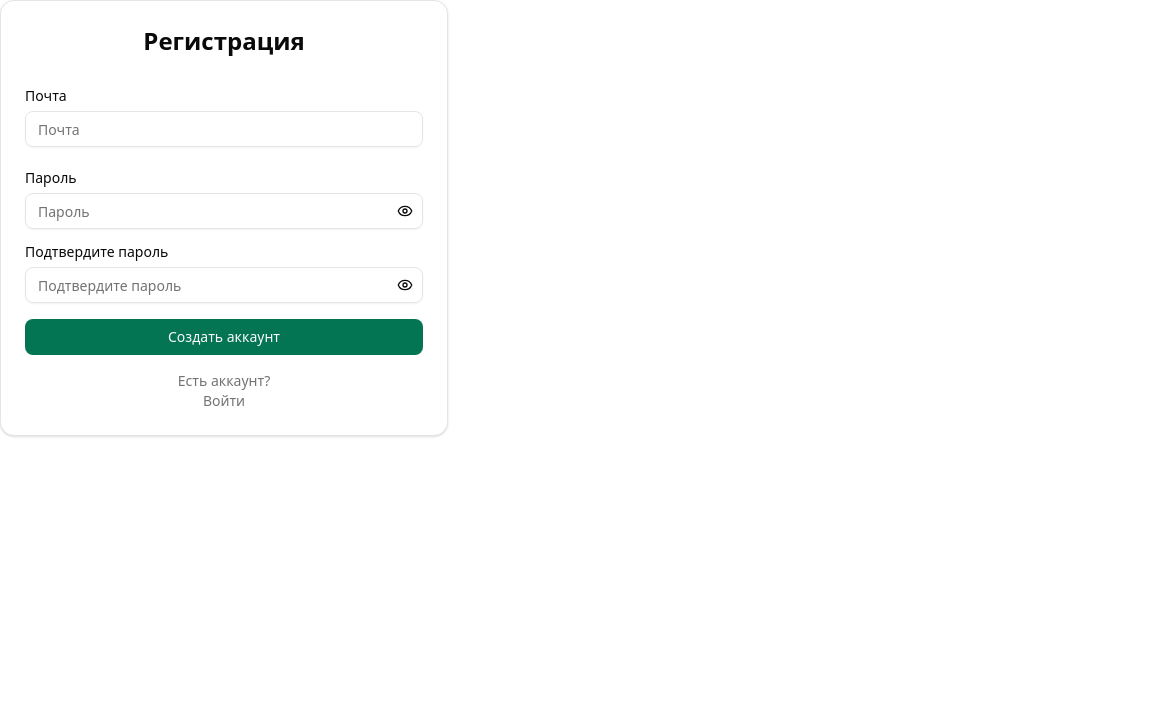
Scenario: RegisterForm › should open code dialog when code is sent
Type "test@abai-it.kz" into the field at (224, 129), box [25,111,423,147]
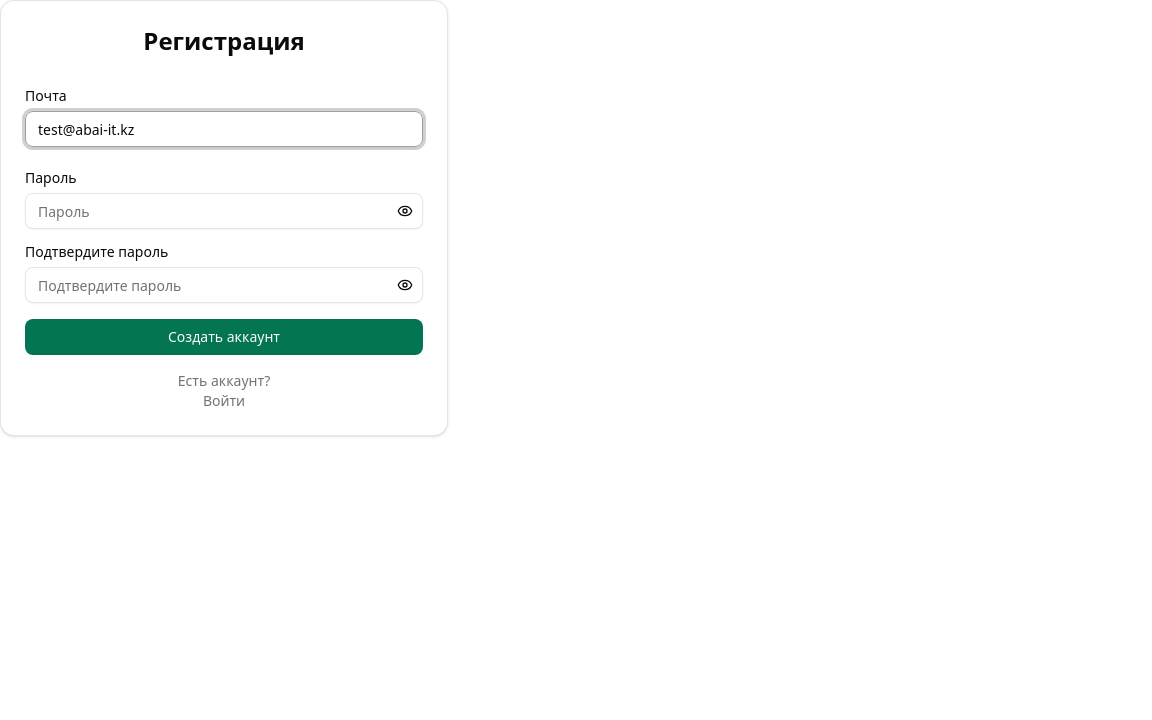
Type "Test12345678" into the password field with placeholder "Пароль" at (224, 211), box [25,193,423,229]
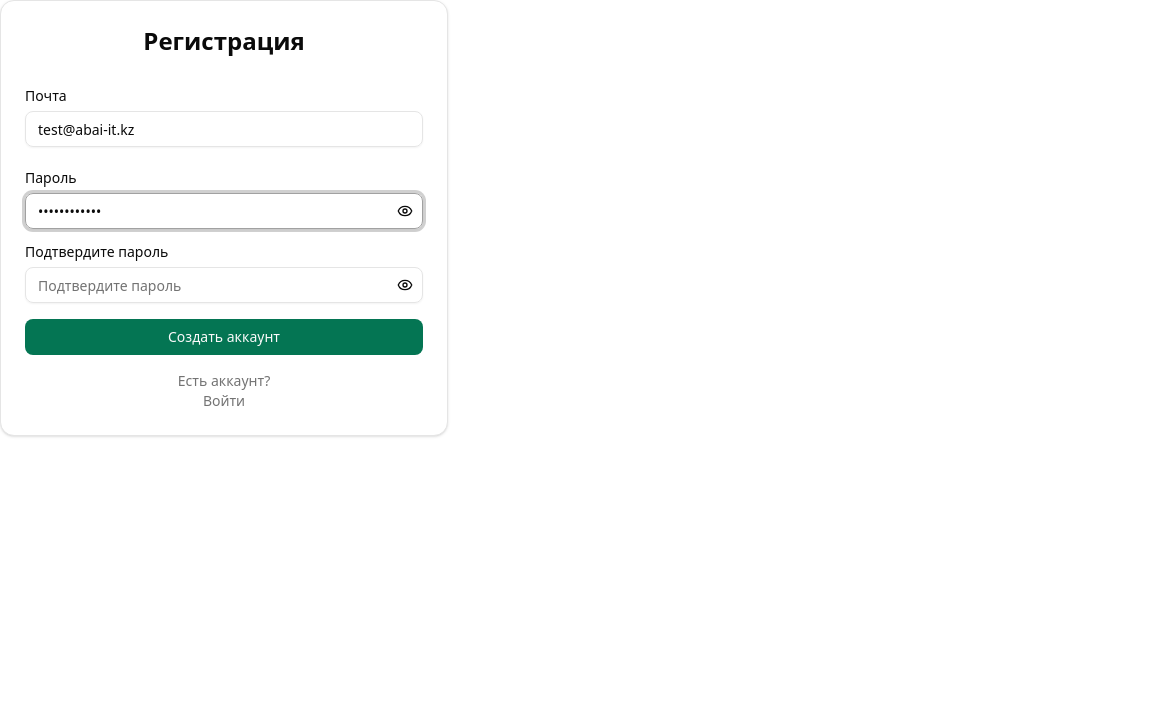
Type "Test12345678" into the password field with placeholder "Подтвердите пароль" at (224, 285), box [25,267,423,303]
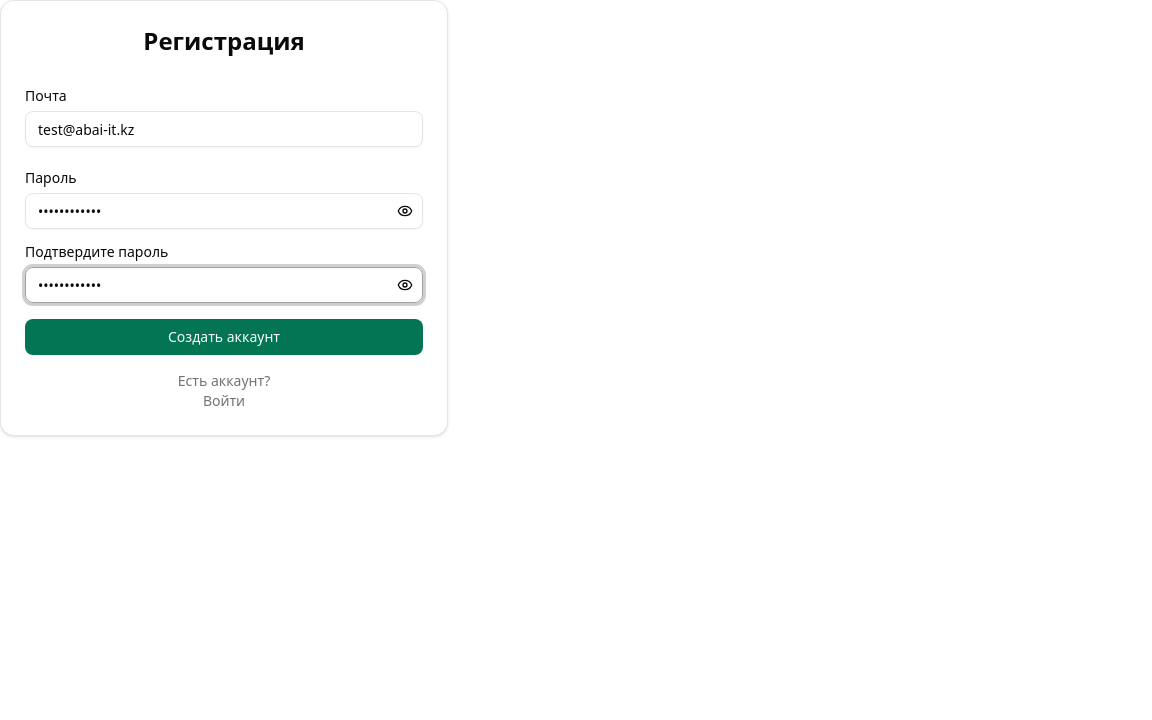
Click the button "Создать аккаунт" at (224, 337), box [25,319,423,355]
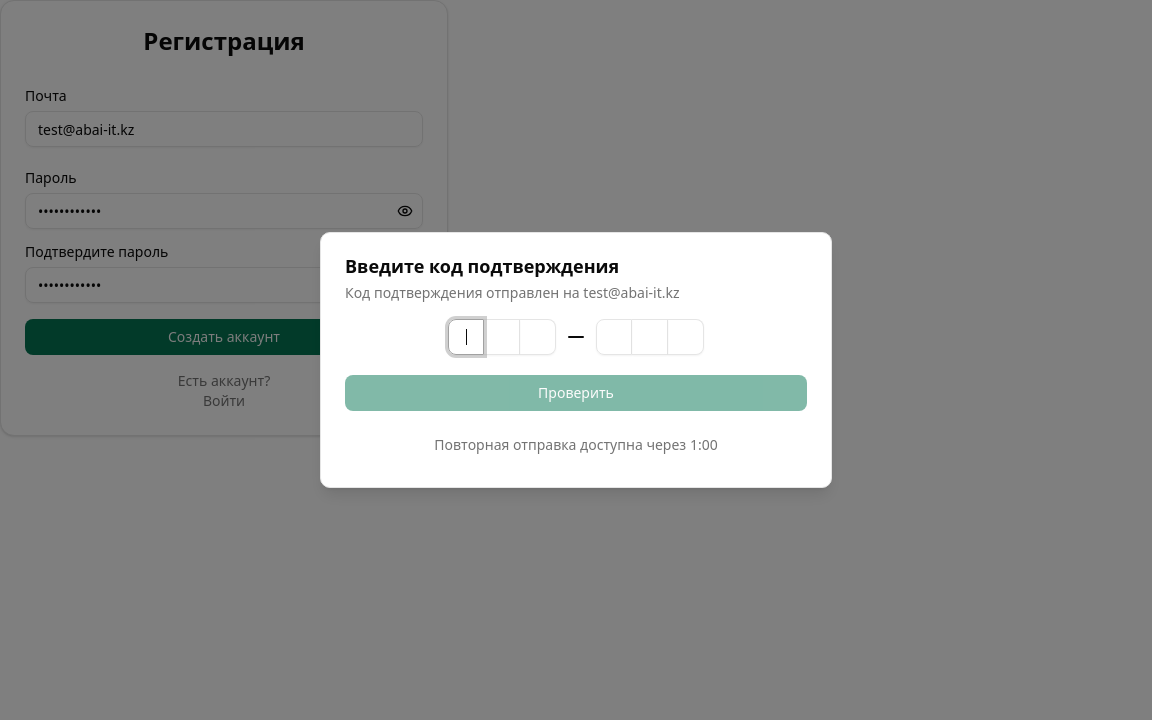
Check: the dialog is shown, box [320,232,832,488]
